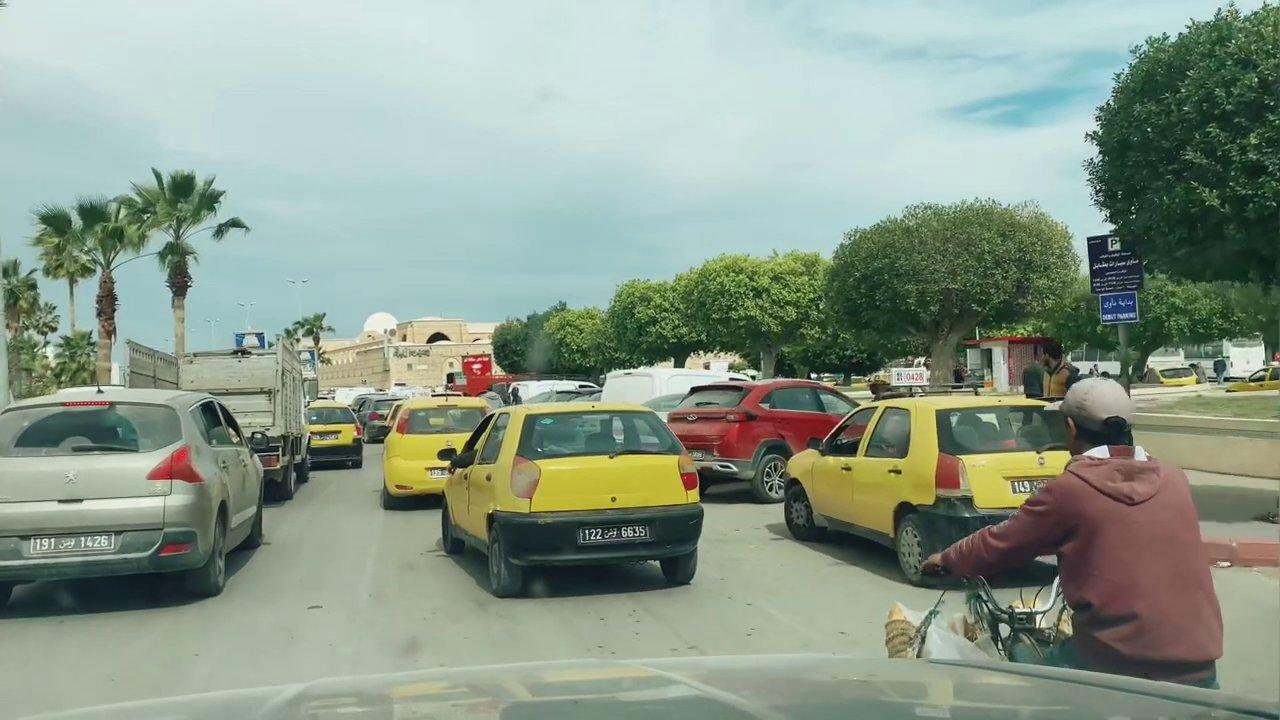pay parking zone: (1086, 235, 1147, 295)
